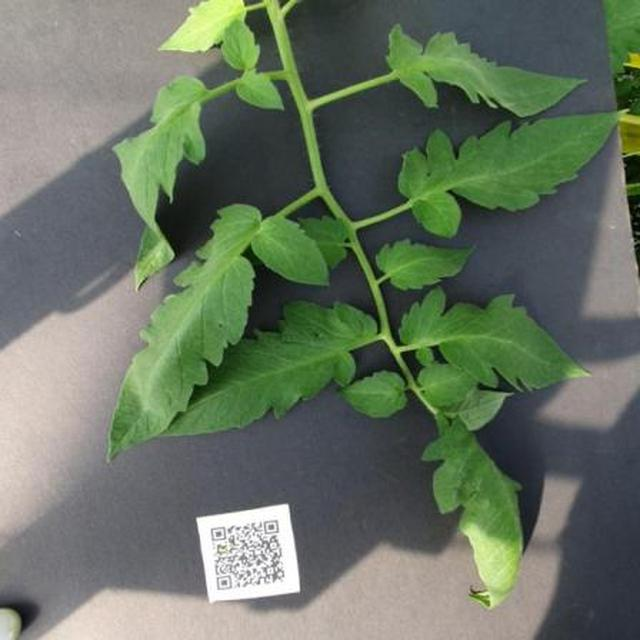Healthy Leaf: (58, 57, 640, 562)
